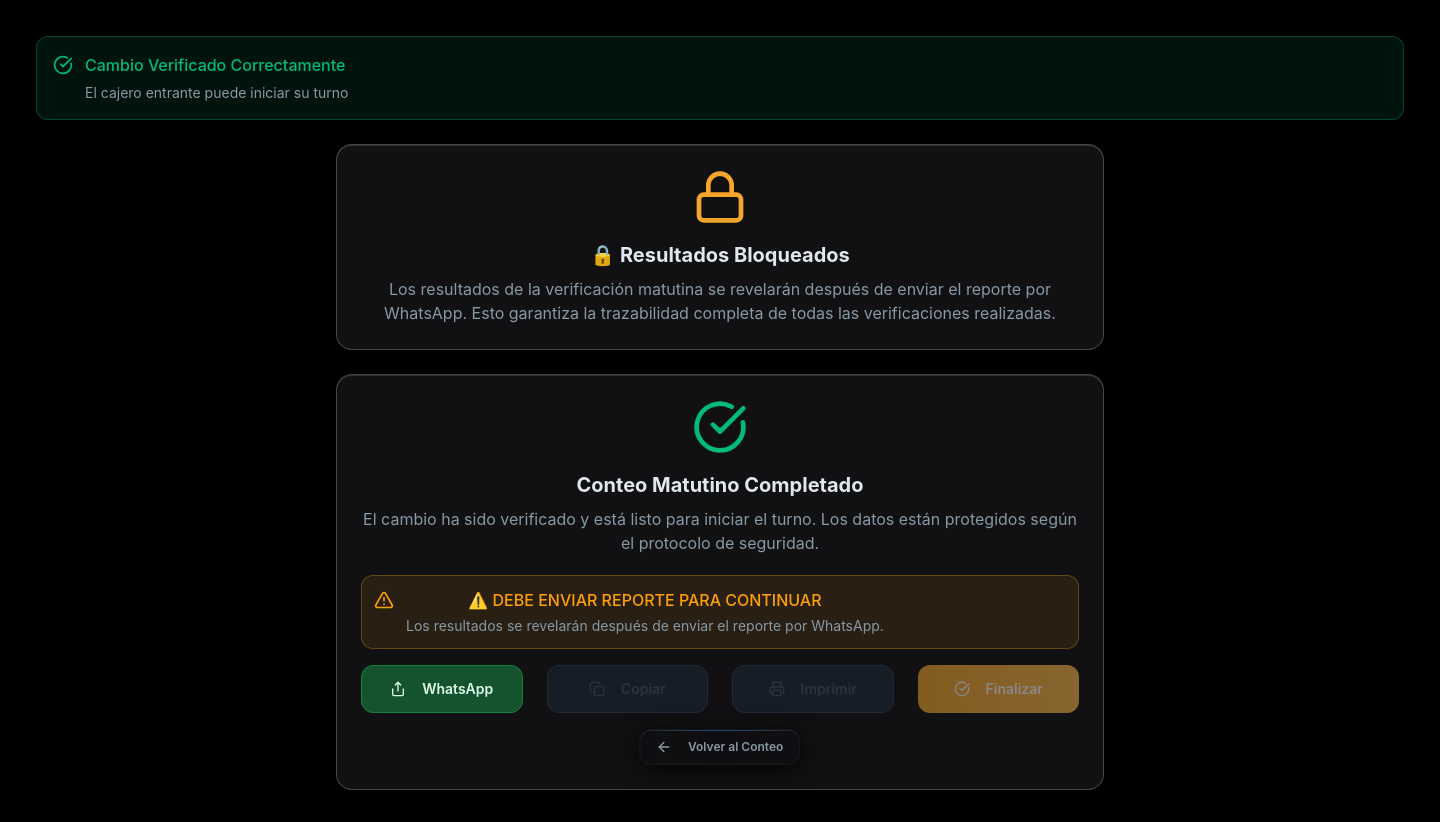
Test: MorningVerification - v1.3.7 WhatsApp Confirmation Flow › Grupo 2: Flujo WhatsApp exitoso › 2.4 - Después de confirmar, botones Copiar y Finalizar deben habilitarse
# Abrir WhatsApp
Click the button "WhatsApp" at x=442, y=689, box [361,665,522,713]
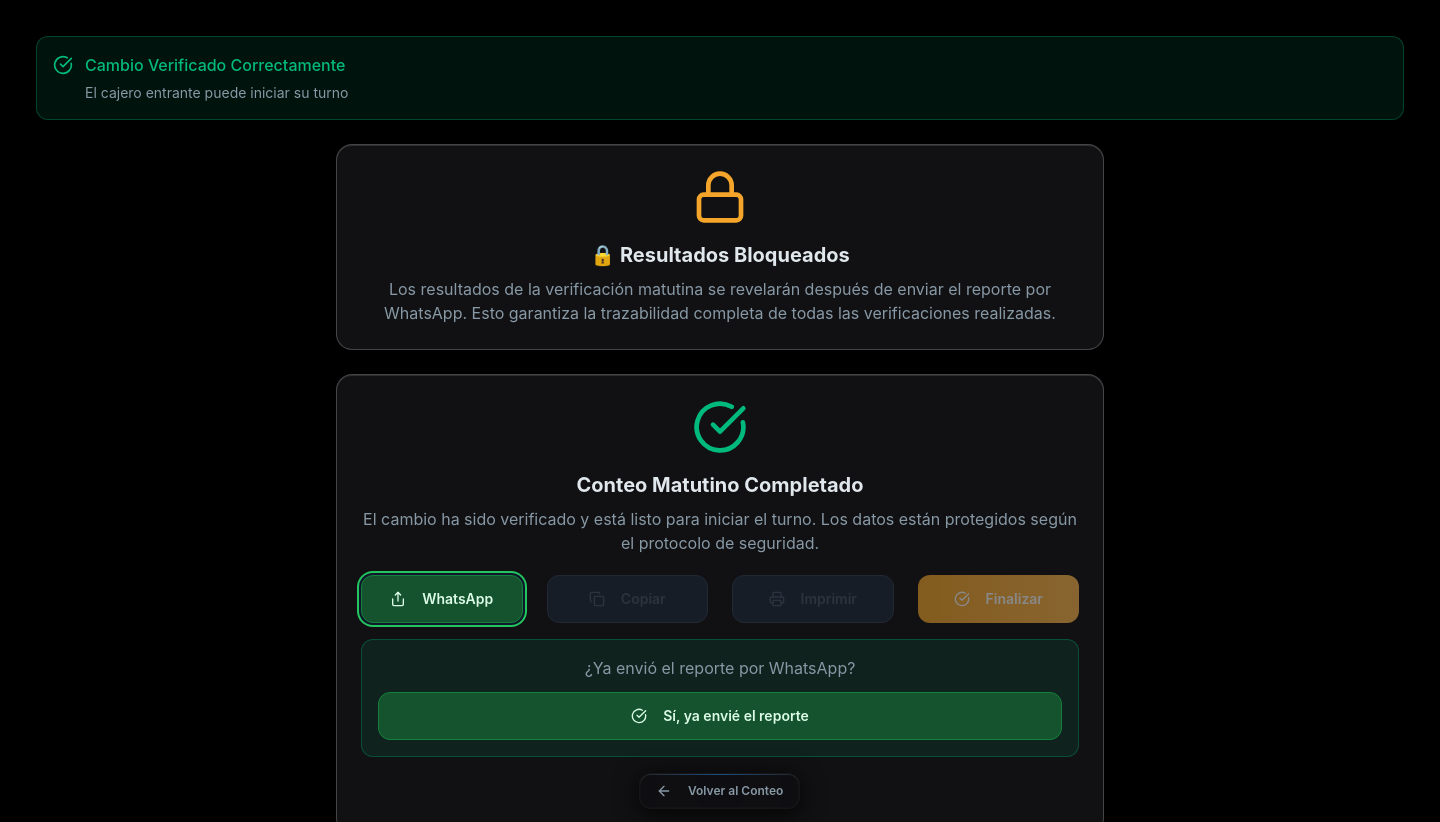
# Confirmar envío
Click the button "Sí, ya envié el reporte" at x=720, y=716, box [378,692,1062,740]
(page scrolled)
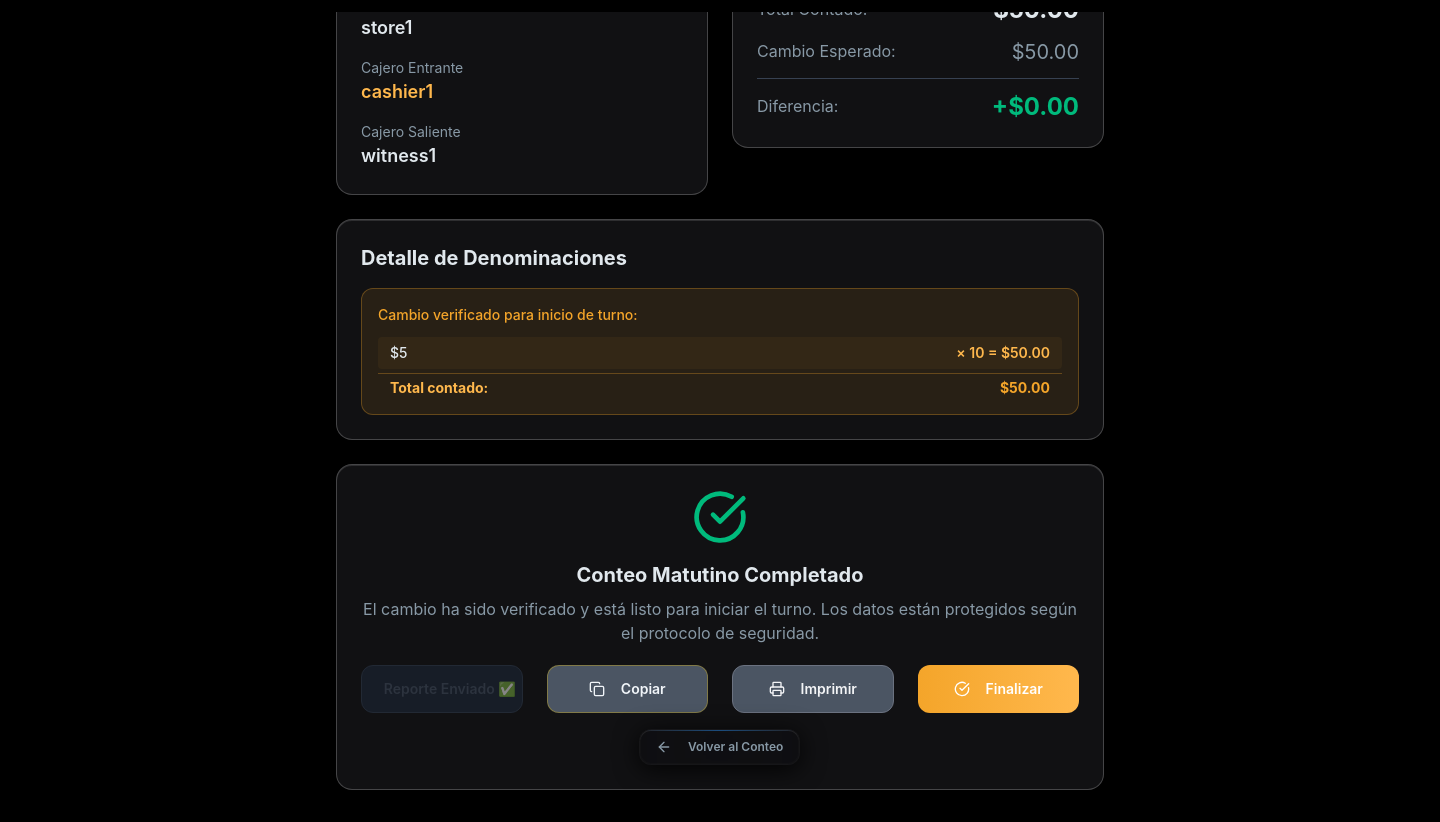
Expected: the button "Copiar" is enabled, [546,665,708,713]
Expected: the button "Finalizar" is enabled, [918,665,1079,713]
